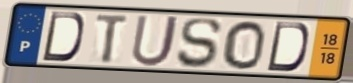D: (264, 20, 311, 74), (39, 10, 86, 63)
O: (222, 19, 268, 71)
S: (175, 17, 224, 70)
T: (93, 13, 131, 66)
U: (129, 13, 182, 69)
